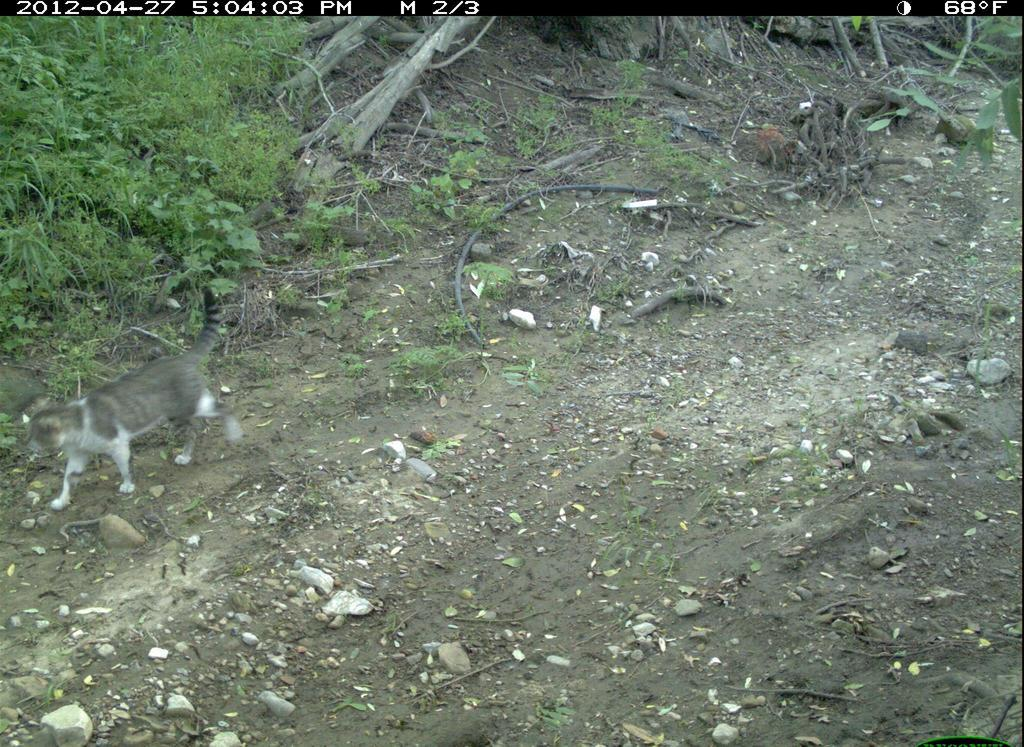cat: (11, 285, 251, 516)
